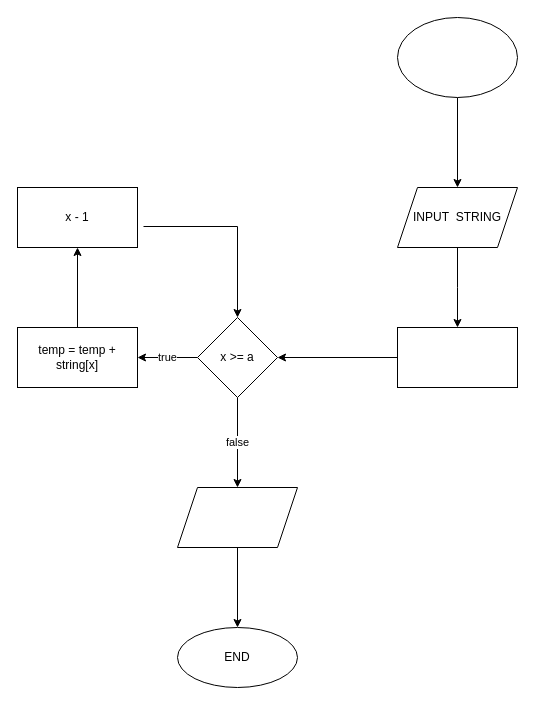
This 535x705 diagram has some shape labels left out. The shapes that lost their labels are listed below. From the top down, each one's centre as x and y in pixels, then its label:
(457,57): START
(457,357): a = 0 x = string.length - 1 temp = ""
(237,517): print temp
